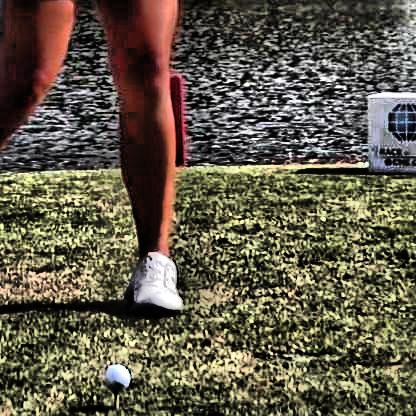golfball: (98, 361, 127, 390)
